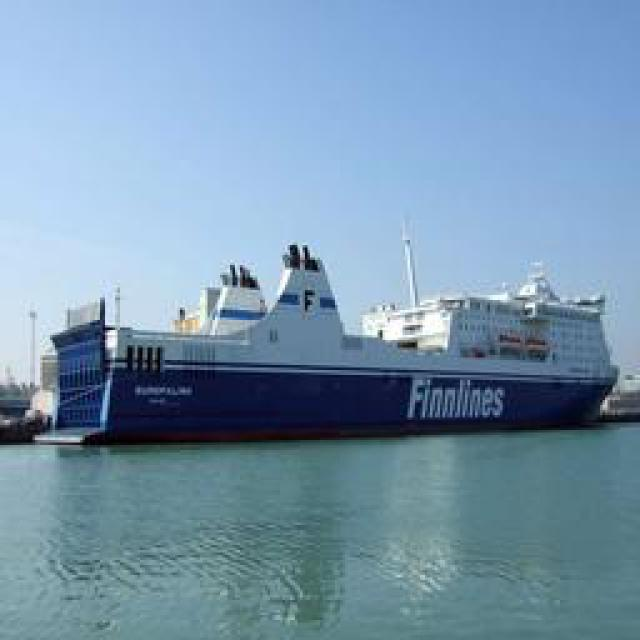Ship: (51, 238, 614, 443)
